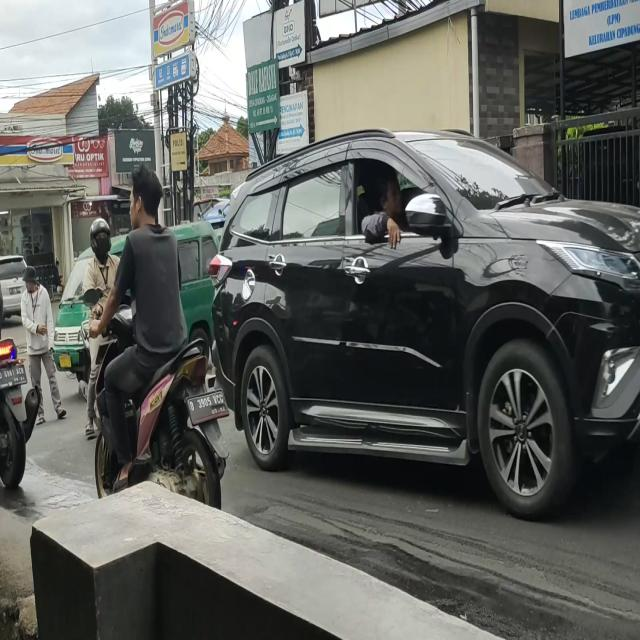helmet: (89, 221, 112, 261)
no-helmet: (129, 168, 161, 231)
